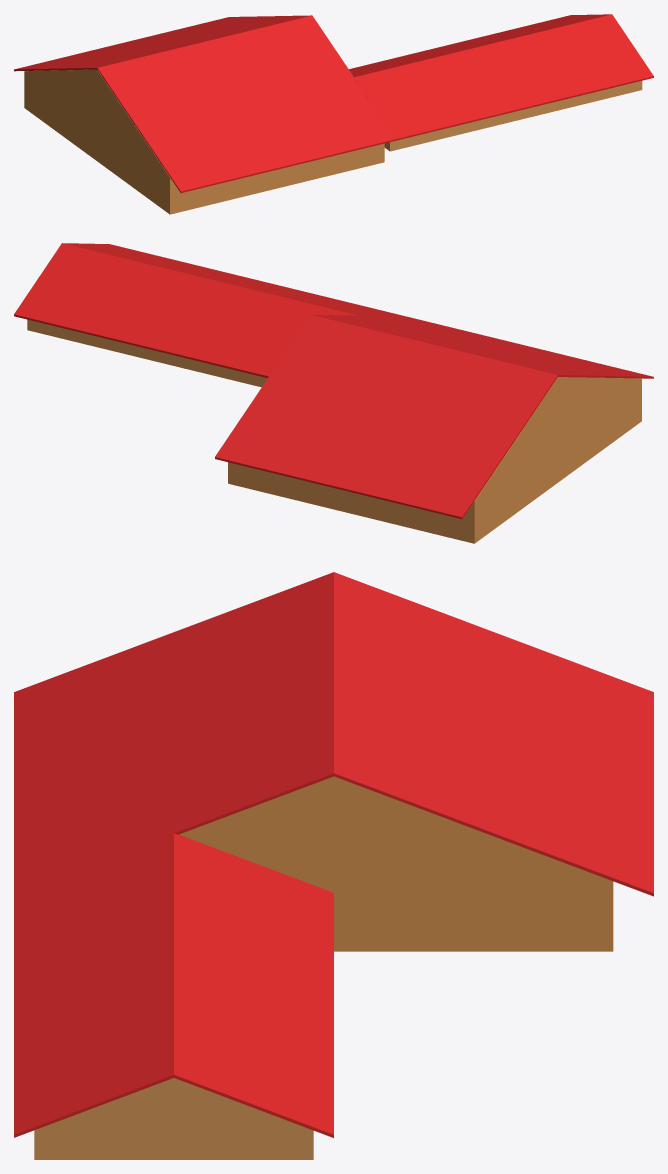
Rendered from acoperis.glb.
The picture shows the model from 3 angles, top to bottom: view 1: azimuth 30°, elevation 25°; view 2: azimuth 150°, elevation 25°; view 3: azimuth 270°, elevation 25°; orthographic projection. The views are drawn at different scales.
Visible parts, largest first — view 1: Sketch.002, Sketch, Sketch.003, Sketch.001; view 2: Sketch.002, Sketch, Sketch.003, Sketch.001; view 3: Sketch.002, Sketch, Sketch.003, Sketch.001.
Part boxes in pixels (left/top/right/bottom): Sketch.002: left=14, top=15, right=395, bottom=192; Sketch: left=349, top=14, right=653, bottom=140; Sketch.003: left=24, top=69, right=384, bottom=214; Sketch.001: left=384, top=81, right=642, bottom=151; Sketch.002: left=215, top=314, right=653, bottom=519; Sketch: left=14, top=243, right=405, bottom=378; Sketch.003: left=228, top=377, right=641, bottom=543; Sketch.001: left=27, top=319, right=267, bottom=387; Sketch.002: left=14, top=572, right=653, bottom=896; Sketch: left=14, top=833, right=333, bottom=1137; Sketch.003: left=179, top=776, right=613, bottom=951; Sketch.001: left=34, top=1078, right=313, bottom=1159.
Bounding box in the file's own units: 18.76 × 3.54 × 11.46.
